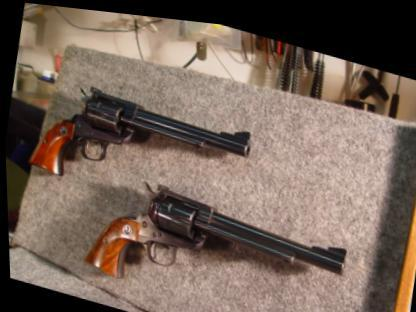pistol: (77, 161, 352, 311), (20, 64, 256, 225)
